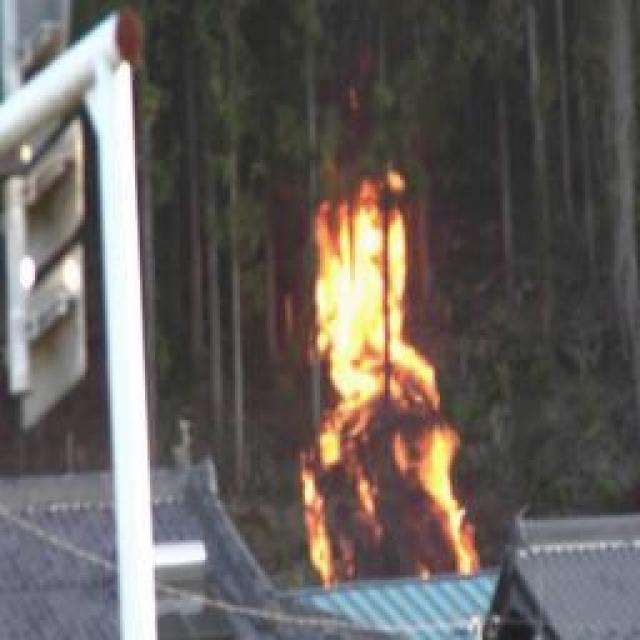Fire: (293, 175, 478, 583)
